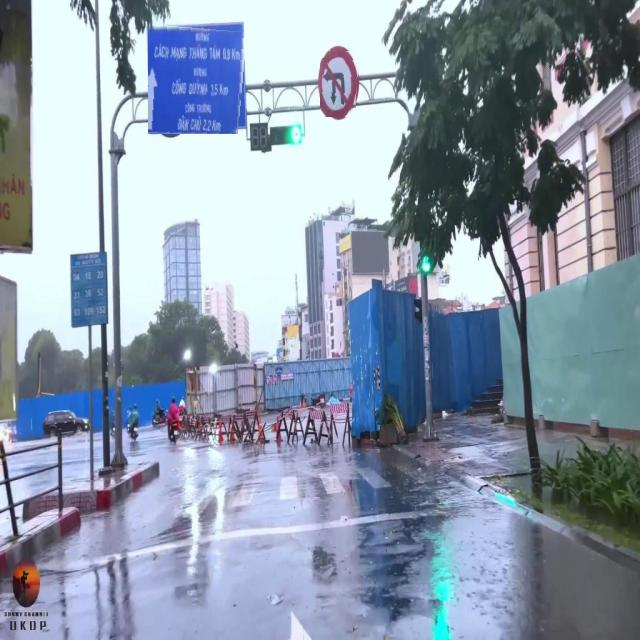cam_re_trai: (267, 375, 271, 383)
khac: (148, 24, 247, 134), (320, 49, 359, 117)
